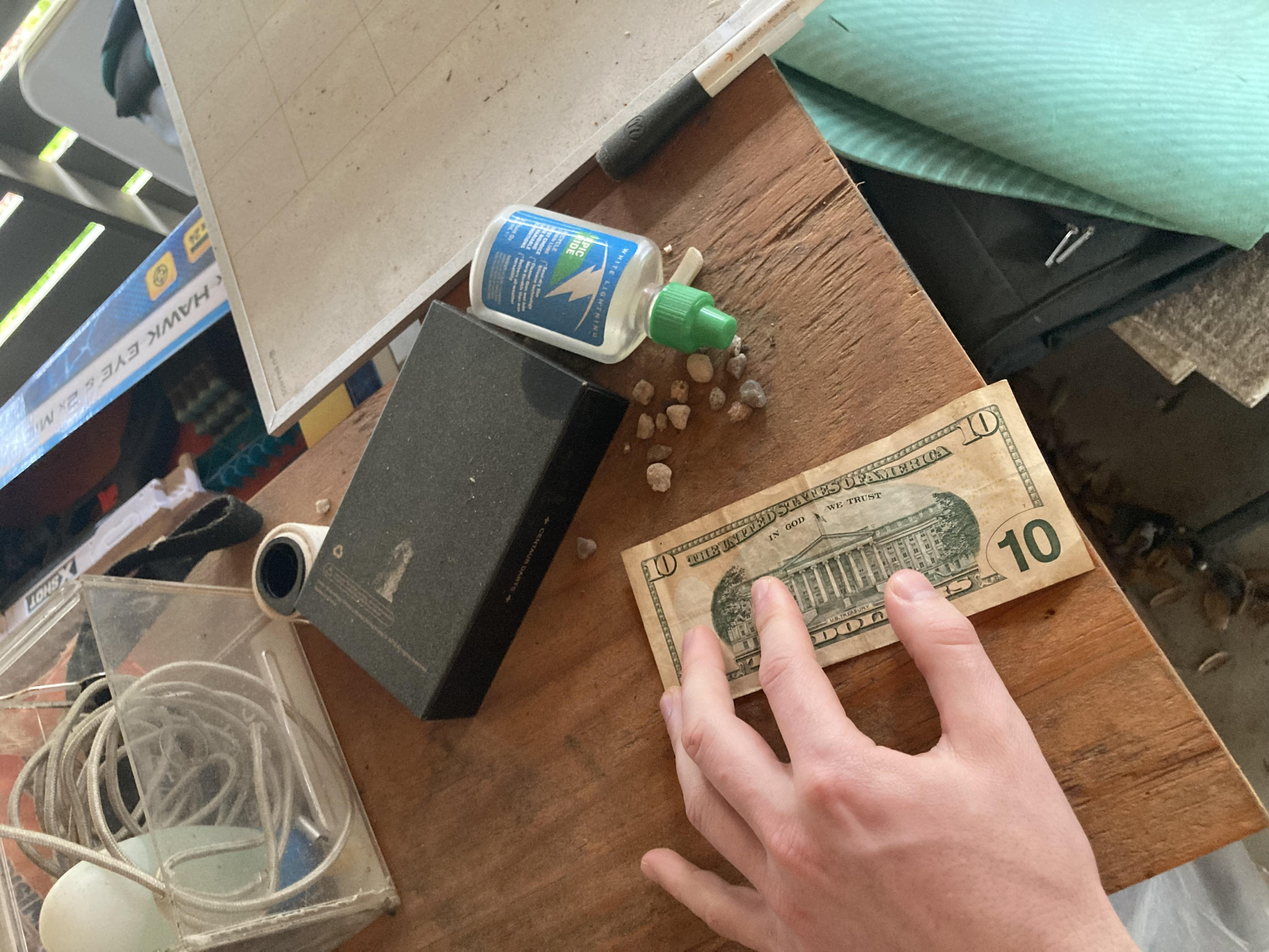ten-back: (308, 466, 769, 823)
